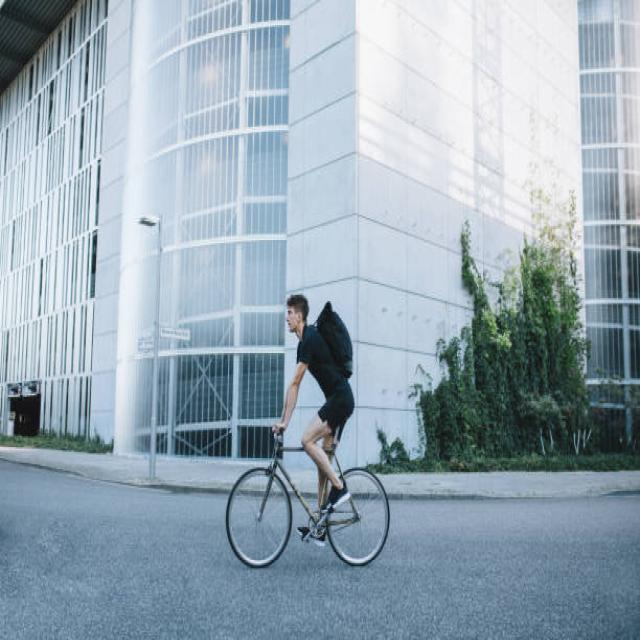bicycle: (226, 294, 389, 567)
